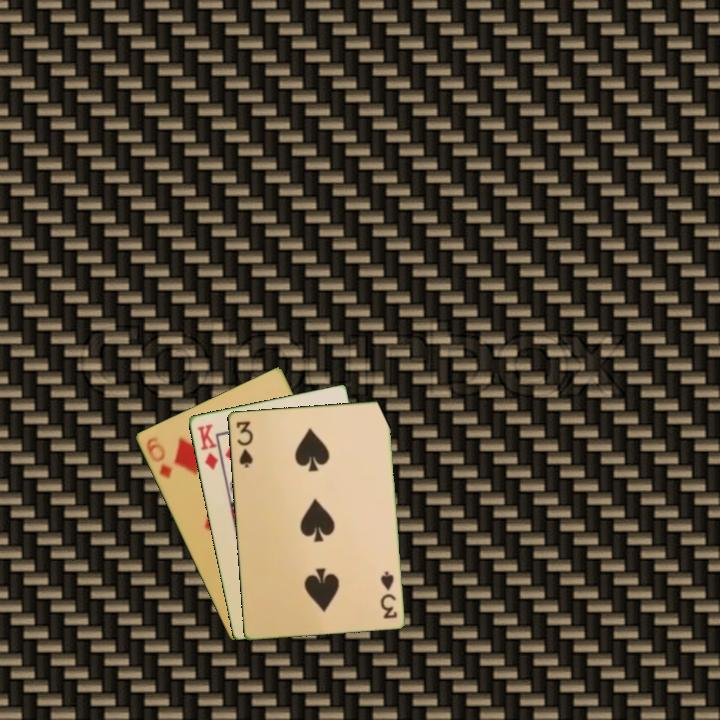3s: (232, 417, 255, 470), (376, 568, 399, 621)
6d: (142, 433, 175, 481)
Kd: (193, 420, 220, 473)
